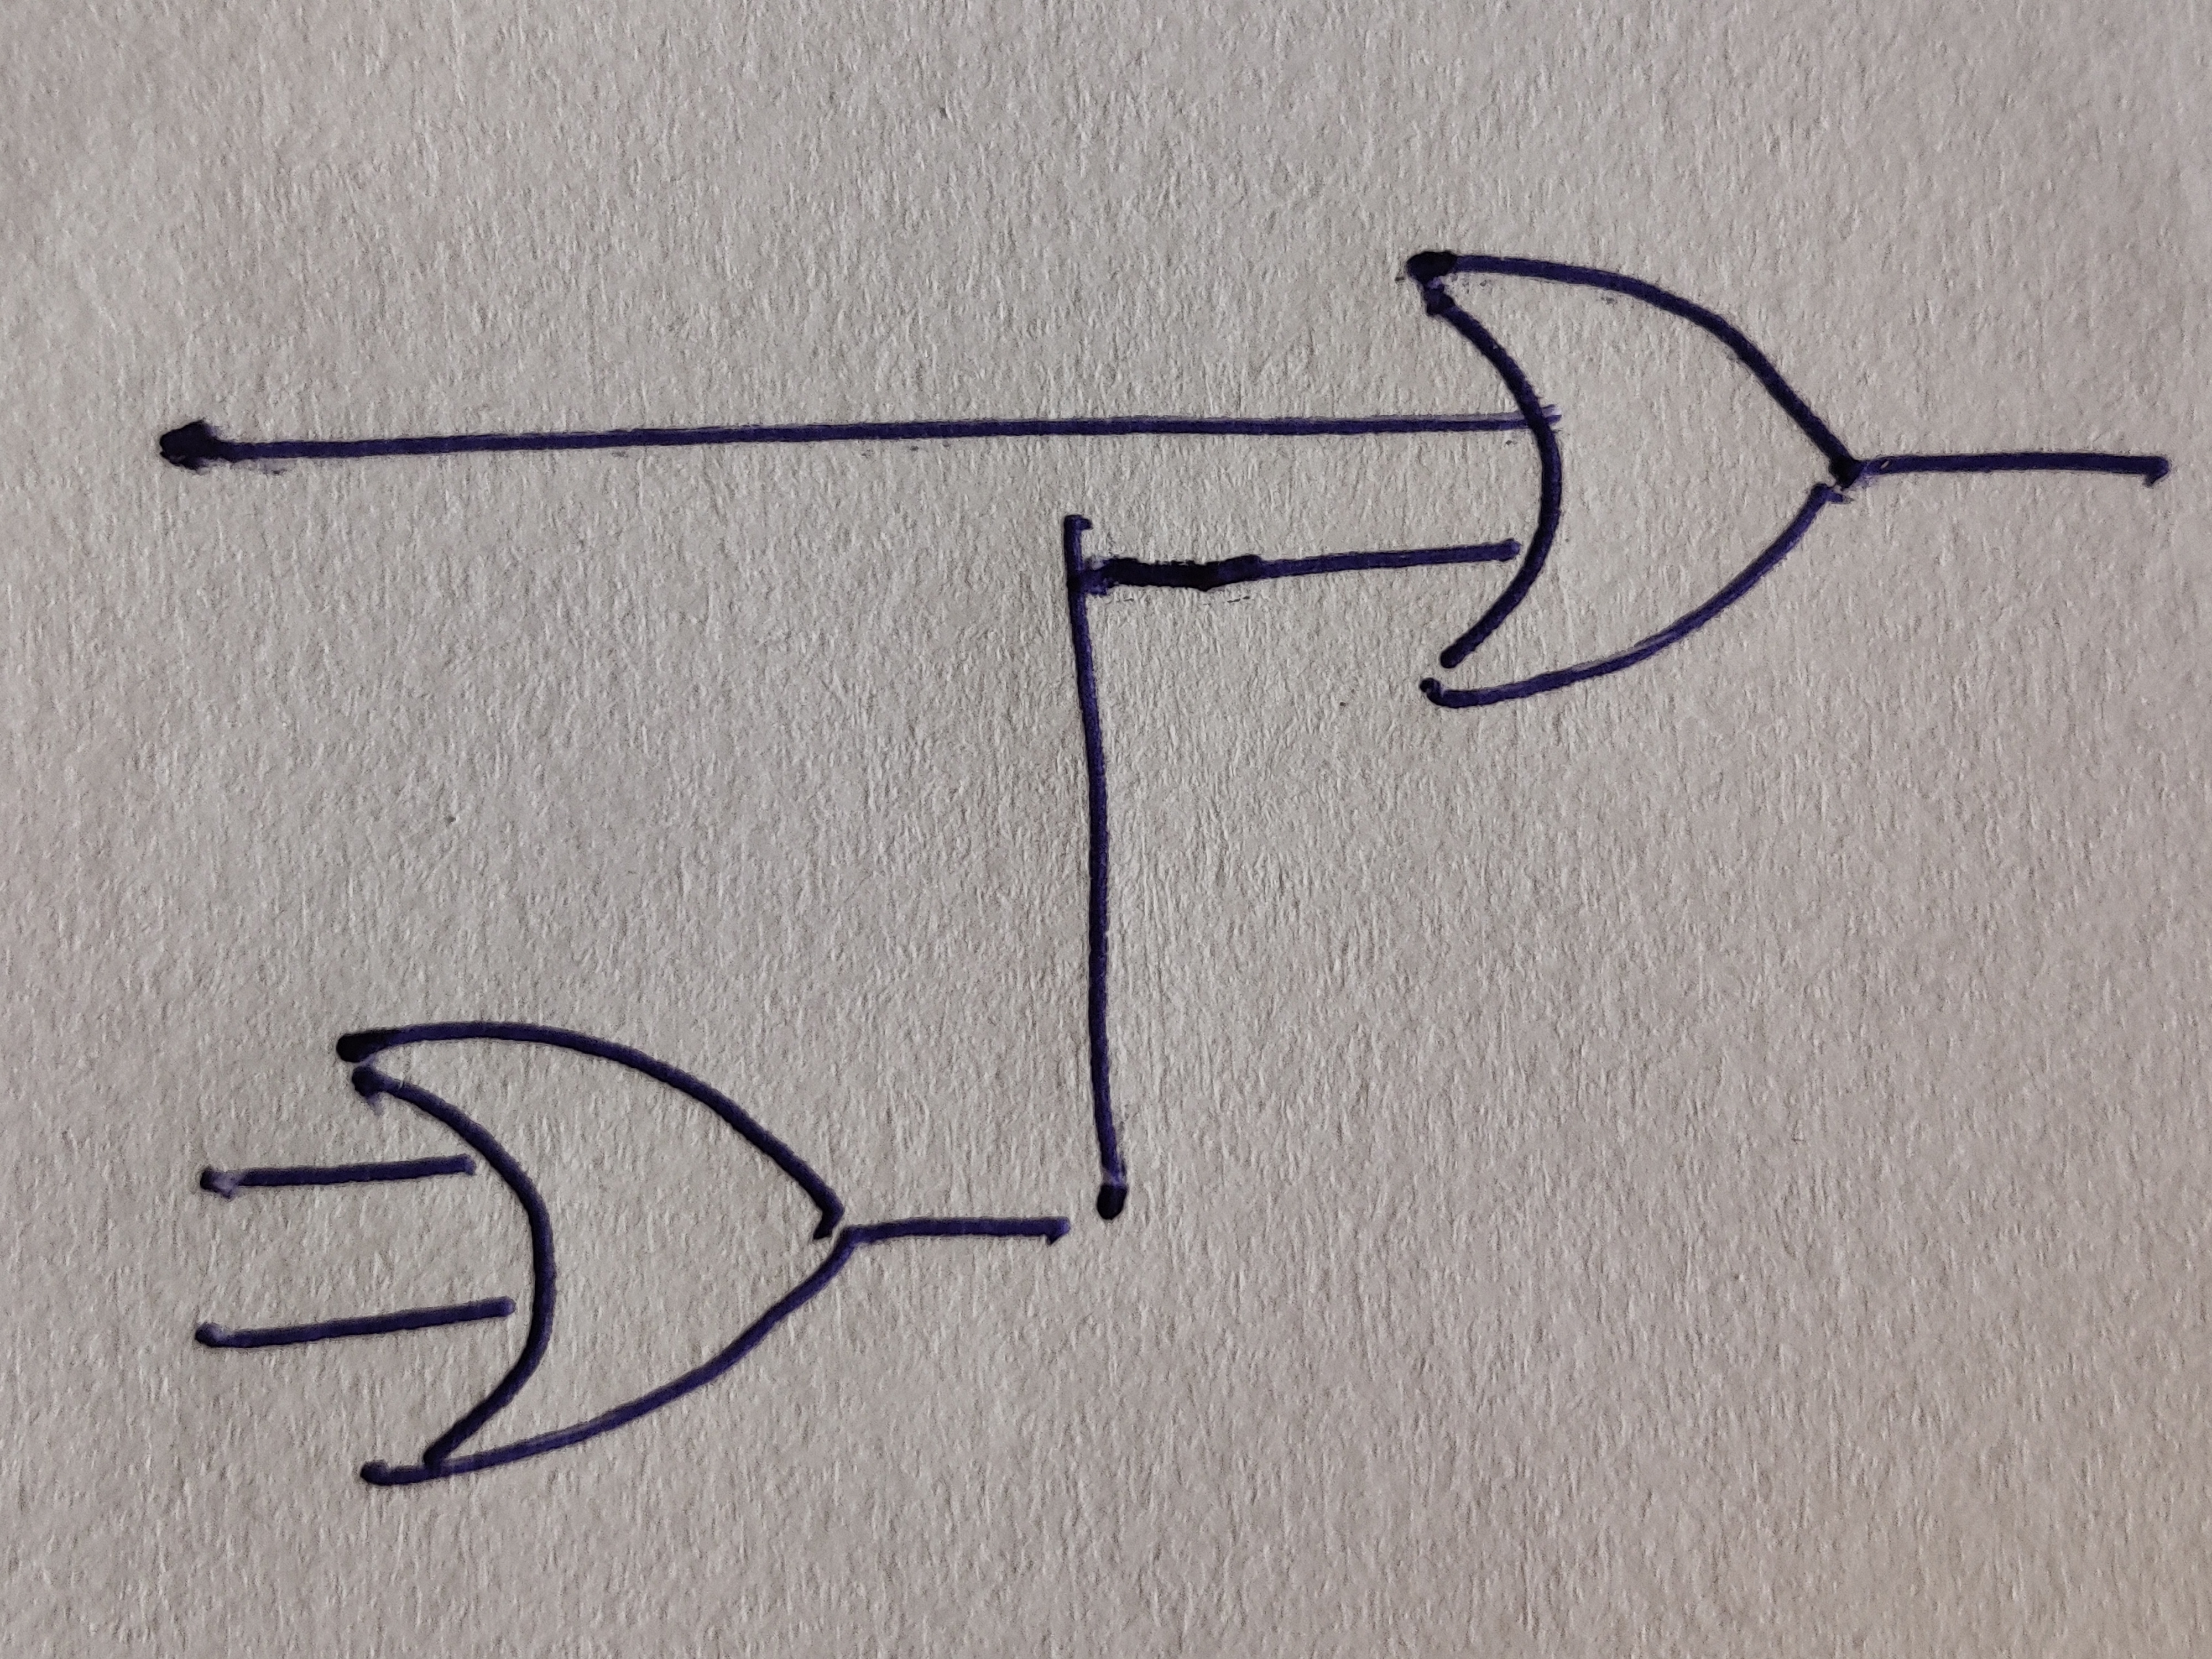or: (338, 1021, 857, 1486), (1404, 249, 1862, 713)
